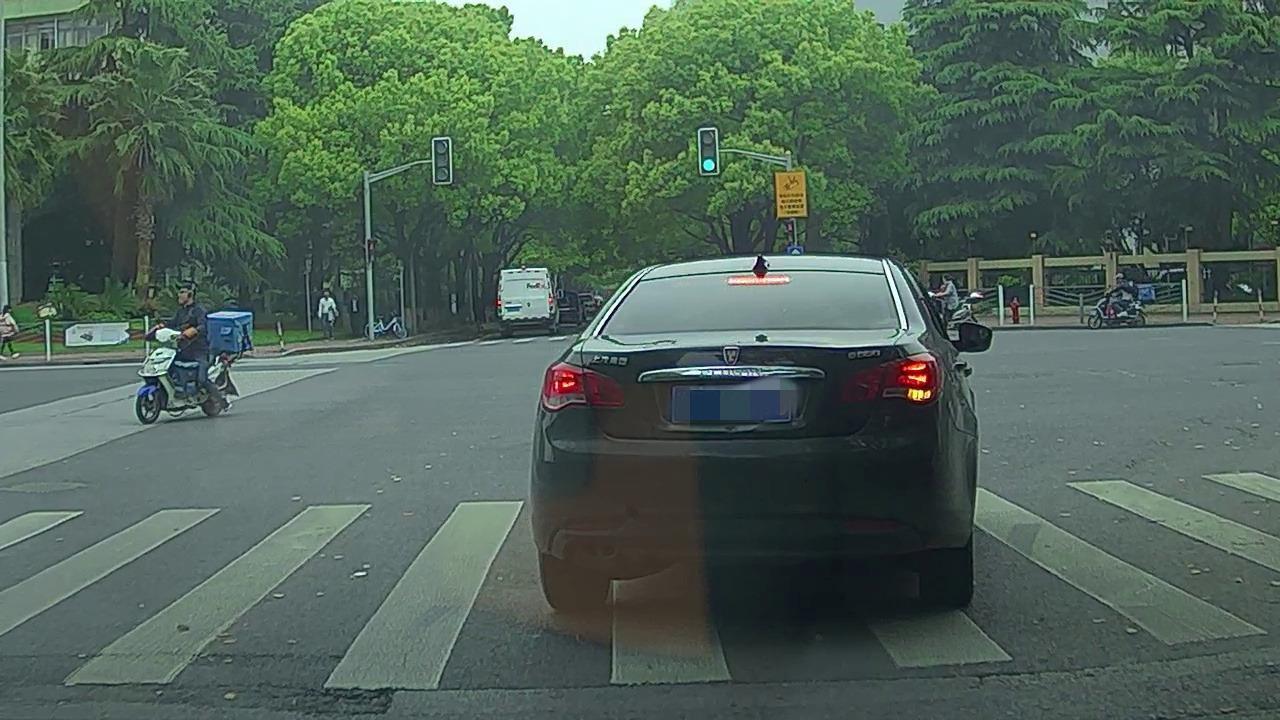traffic_light: (699, 127, 717, 173), (433, 141, 450, 183)
